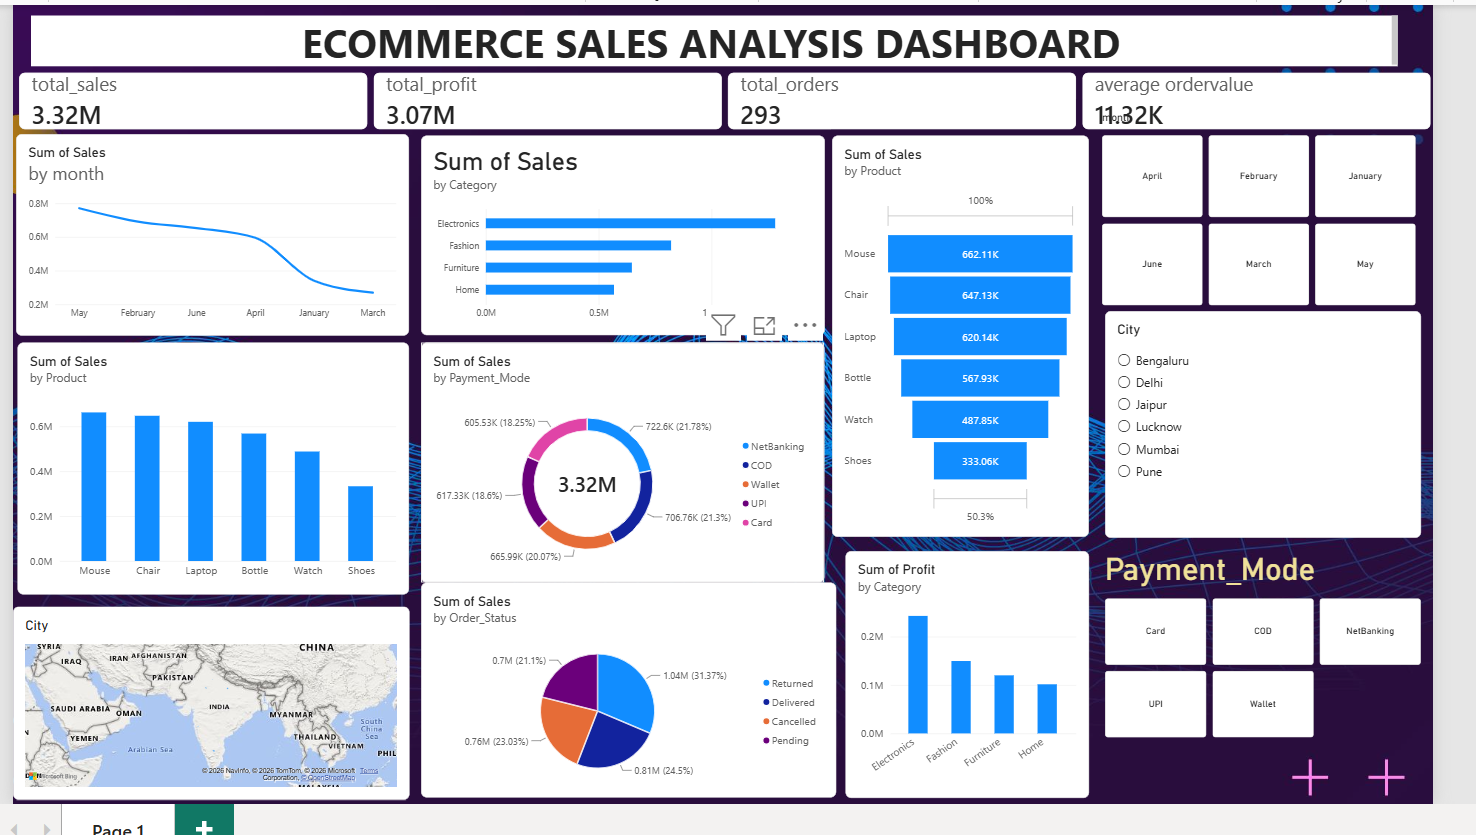

What the dashboard file says about the page in this screenshot:
{"tool":"powerbi","page":{"name":"Page 1","canvas":[1920,1080],"ordinal":0},"visuals":[{"type":"cardVisual","fields":{"Data":["Dax_measure.total_sales","Dax_measure.total_profit","Dax_measure.total_orders","Dax_measure.average ordervalue"]},"box":[9.1,90.9,1910.2,77.2],"z":0},{"type":"textbox","box":[24.3,14.2,1847.1,68.9],"z":1000},{"type":"lineChart","fields":{"Category":["ecommerce orders.month"],"Y":["Sum(ecommerce orders.Sales)"]},"box":[4.5,174.9,531.5,272.6],"z":2000},{"type":"barChart","fields":{"Category":["ecommerce orders.Category"],"Y":["Sum(ecommerce orders.Sales)"]},"box":[551.9,177.2,546,270],"z":3000},{"type":"columnChart","fields":{"Category":["ecommerce orders.Product"],"Y":["Sum(ecommerce orders.Sales)"]},"box":[6.8,456.5,529.2,340.7],"z":4000},{"type":"donutChart","fields":{"Category":["ecommerce orders.Payment_Mode"],"Y":["Sum(ecommerce orders.Sales)"]},"box":[551.9,456.5,545.1,324.8],"z":5000},{"type":"pieChart","fields":{"Category":["ecommerce orders.Order_Status"],"Y":["Sum(ecommerce orders.Sales)"]},"box":[551.9,781.3,561,290.7],"z":6000},{"type":"funnel","fields":{"Category":["ecommerce orders.Product"],"Y":["Sum(ecommerce orders.Sales)"]},"box":[1106.1,177.2,347.5,542.8],"z":7000},{"type":"columnChart","fields":{"Category":["ecommerce orders.Category"],"Y":["Sum(ecommerce orders.Profit)"]},"box":[1124.3,738.2,329.3,333.9],"z":8000},{"type":"advancedSlicerVisual","fields":{"Values":["ecommerce orders.month"]},"box":[1471.8,143.1,424.7,263.5],"z":9000},{"type":"listSlicer","fields":{"Values":["ecommerce orders.City"]},"box":[1476.3,413.4,427,306.6],"z":10000},{"type":"advancedSlicerVisual","fields":{"Values":["ecommerce orders.Payment_Mode"]},"box":[1476.3,738.2,427,252.1],"z":11000},{"type":"filledMap","fields":{"Category":["ecommerce orders.City"]},"box":[0,813.1,536,261.2],"z":11001}]}

Visuals, with their boxes in screenshot pixels (x1, y1, x2, y2):
cardVisual - Dax_measure.total_sales x Dax_measure.total_profit: [26,70,1423,127]
textbox: [37,14,1388,65]
lineChart - ecommerce orders.month x Sum(ecommerce orders.Sales): [23,132,411,331]
barChart - ecommerce orders.Category x Sum(ecommerce orders.Sales): [423,133,822,331]
columnChart - ecommerce orders.Product x Sum(ecommerce orders.Sales): [24,338,411,587]
donutChart - ecommerce orders.Payment_Mode x Sum(ecommerce orders.Sales): [423,338,821,575]
pieChart - ecommerce orders.Order_Status x Sum(ecommerce orders.Sales): [423,575,833,788]
funnel - ecommerce orders.Product x Sum(ecommerce orders.Sales): [828,133,1082,530]
columnChart - ecommerce orders.Category x Sum(ecommerce orders.Profit): [841,544,1082,788]
advancedSlicerVisual - ecommerce orders.month: [1095,108,1406,301]
listSlicer - ecommerce orders.City: [1099,306,1411,530]
advancedSlicerVisual - ecommerce orders.Payment_Mode: [1099,544,1411,728]
filledMap - ecommerce orders.City: [19,598,411,789]
